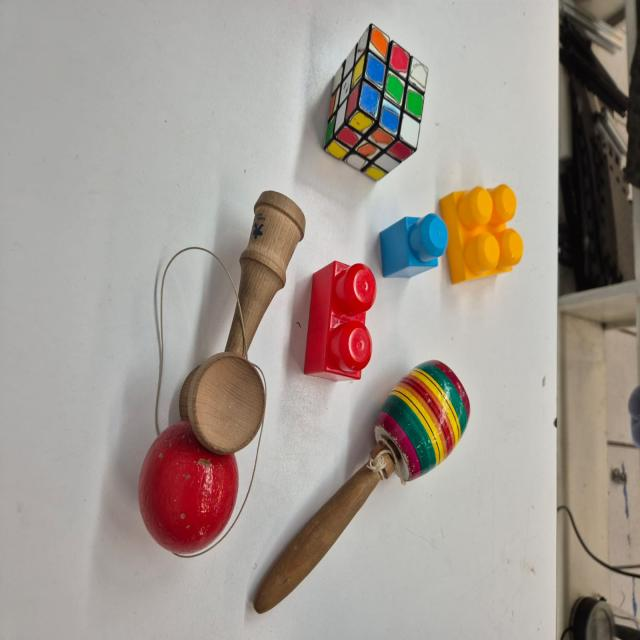balero: (252, 355, 474, 616)
balero ball: (137, 187, 308, 556)
lego 2: (306, 260, 380, 380)
lego 4: (439, 185, 522, 282)
lego_1: (380, 214, 445, 279)
rubick: (321, 22, 432, 182)
